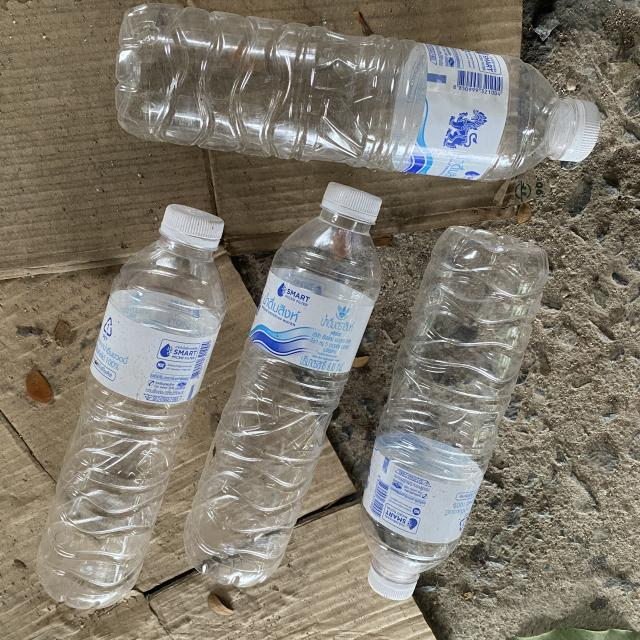plastik: (116, 4, 600, 180), (184, 183, 381, 587), (36, 205, 225, 609), (361, 226, 549, 600)
